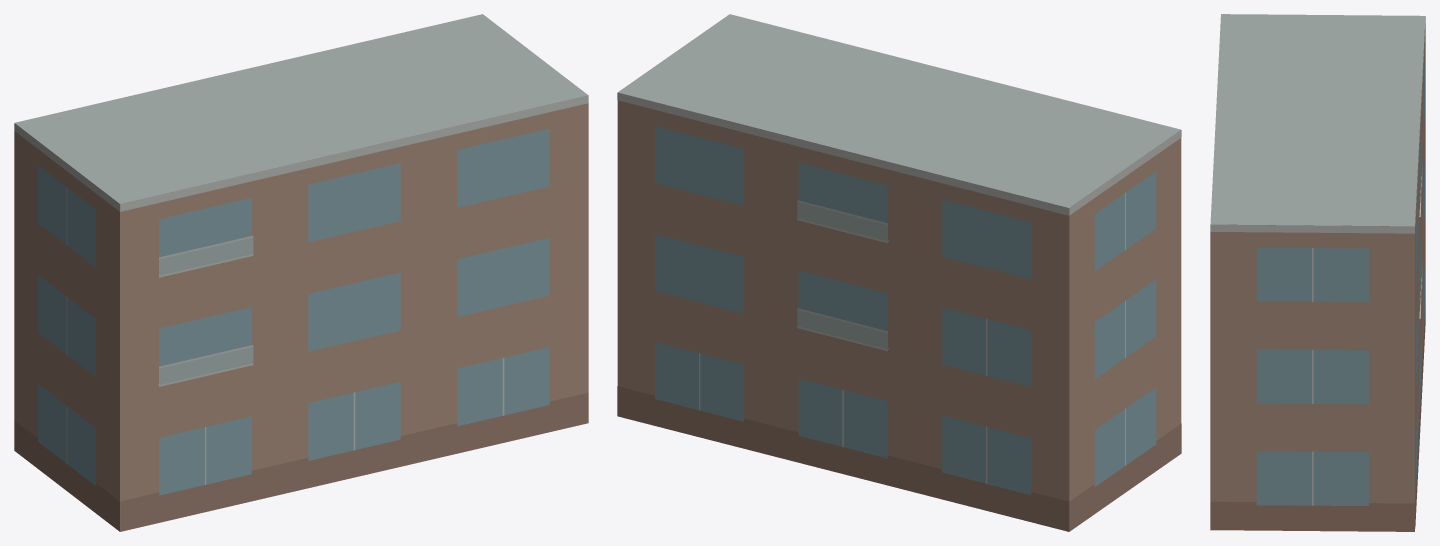
File: survey-upis-32915608.glb
3 renders of one model, left to right at view 1: azimuth 30°, elevation 25°; view 2: azimuth 150°, elevation 25°; view 3: azimuth 270°, elevation 25°, orthographic. The views are drawn at different scales.
Parts seen in each view (by area): view 1: survey-upis-32915608.tmp; view 2: survey-upis-32915608.tmp; view 3: survey-upis-32915608.tmp.
Boxes of the visible parts, bbox=[...] form: survey-upis-32915608.tmp: bbox=[14, 14, 588, 531]; survey-upis-32915608.tmp: bbox=[617, 14, 1181, 531]; survey-upis-32915608.tmp: bbox=[1210, 14, 1425, 531].
Size of the model in its own units: 15.21 by 10.2 by 6.52.
